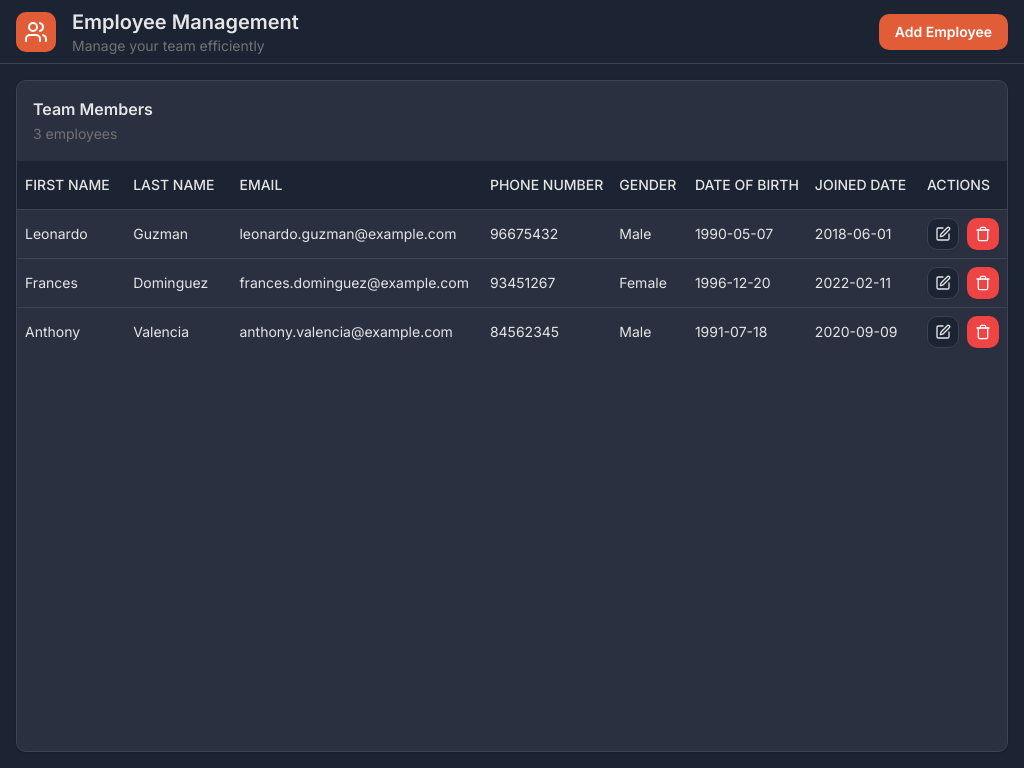
Test: Delete employee spec › Successfully delete an employee
// Click delete button of employee 15
Click the button with test id "delete-15" at (983, 234), box [967,218,999,250]
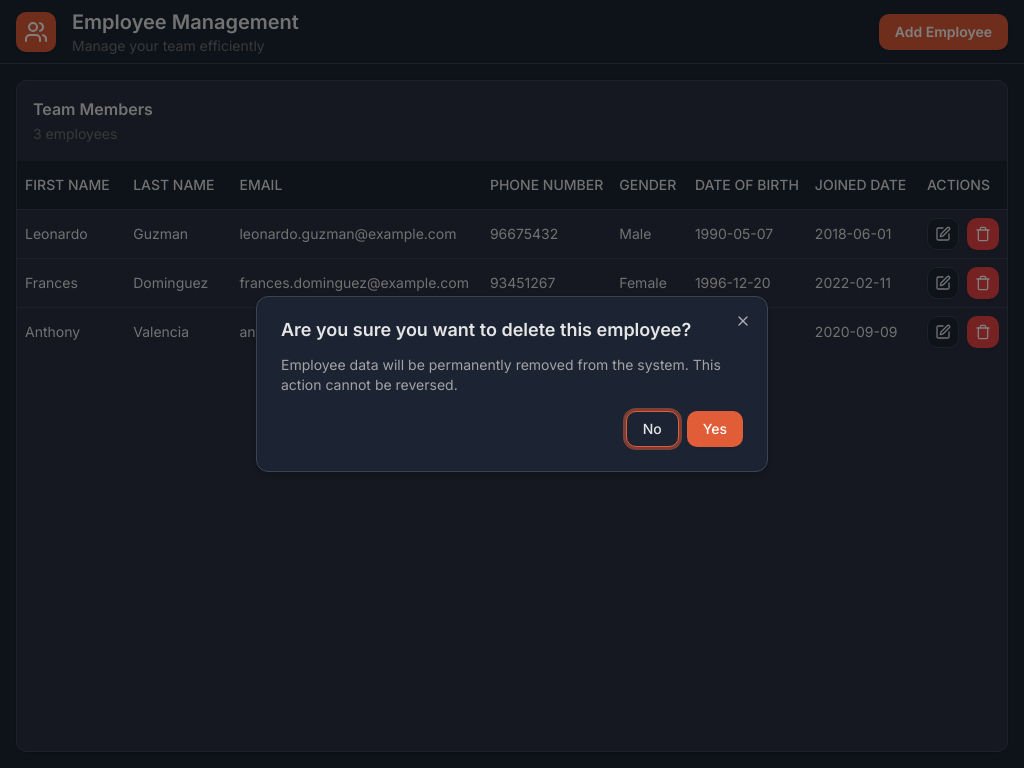
Now the heading "Are you sure you want to delete this employee?" is shown, box [281,321,743,339]
// Confirm deletion
Click the button "Yes" at (715, 429), box [687,411,743,447]
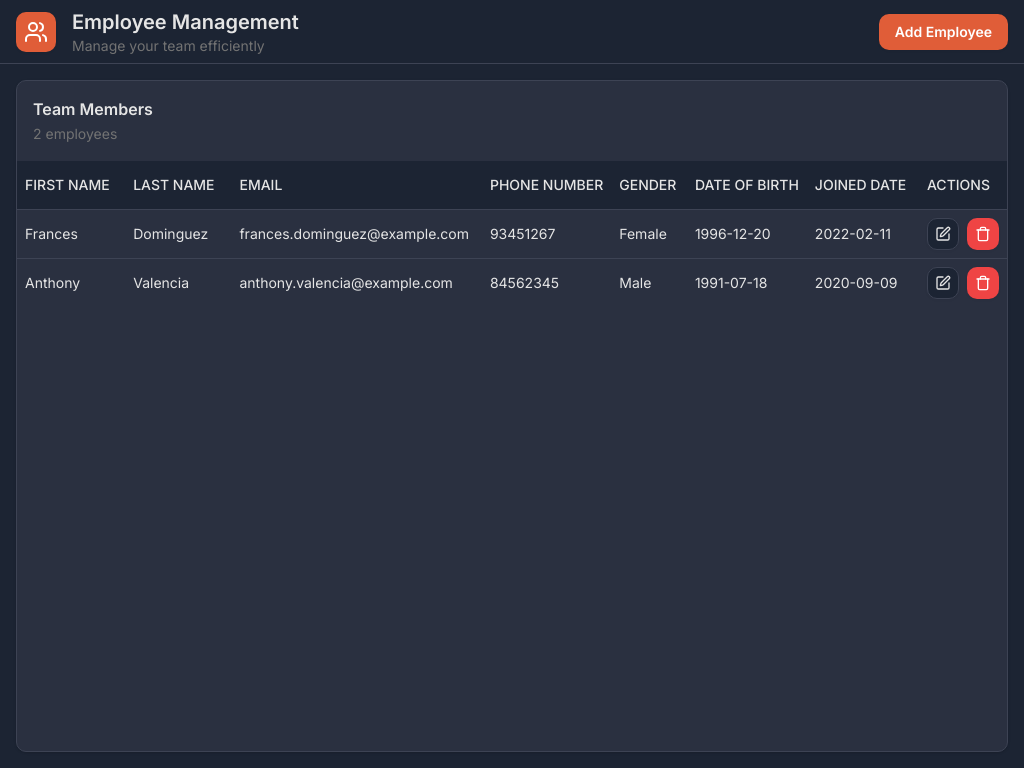
Now the heading "Are you sure you want to delete this employee?" is gone
Now the button with test id "delete-15" is gone
